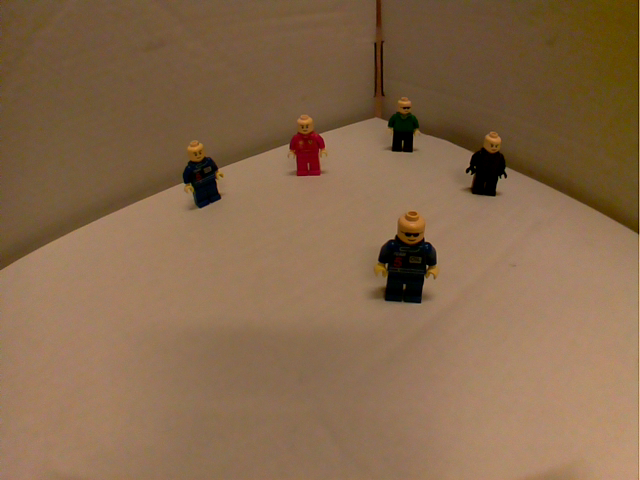Postac LEGO: (368, 207, 443, 312), (177, 138, 229, 211), (463, 128, 511, 201), (283, 112, 332, 181), (380, 95, 425, 155)
